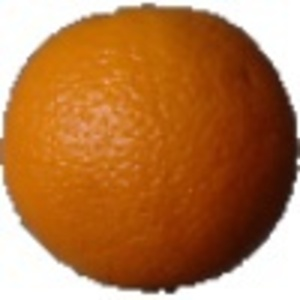laranja: (5, 2, 298, 295)
